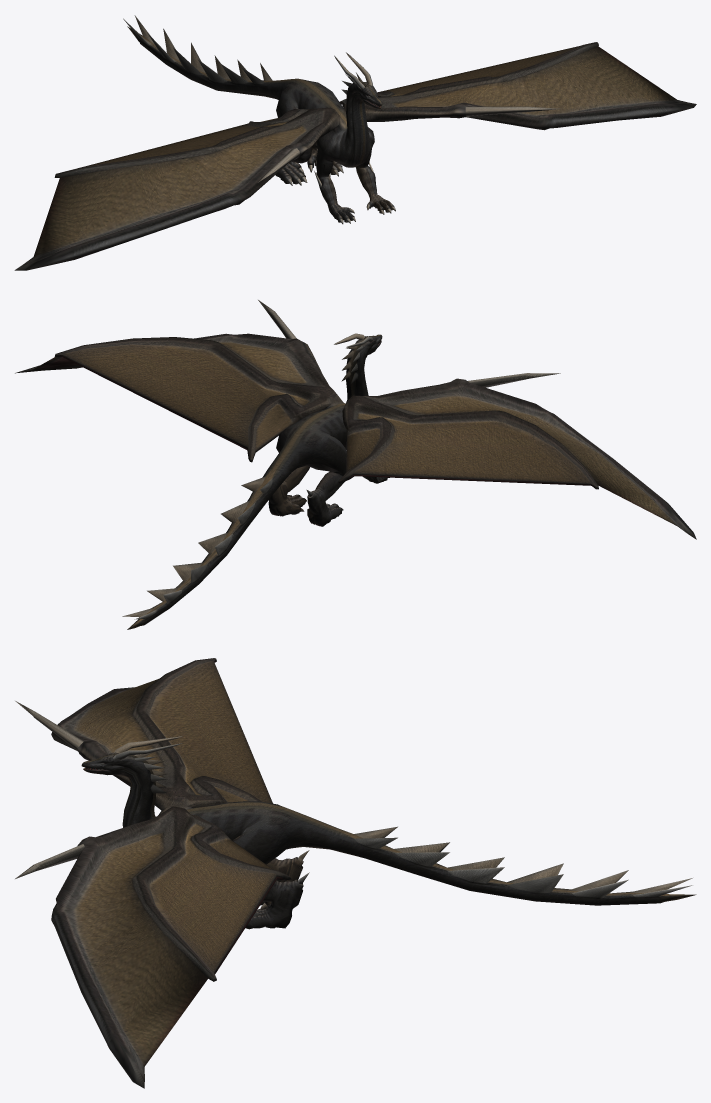
Rendered from Drachen_1.0_obj.obj.
3 views of the same model, one above another, from view 1: azimuth 30°, elevation 25°; view 2: azimuth 150°, elevation 25°; view 3: azimuth 270°, elevation 25° (orthographic). The views are drawn at different scales.
Parts seen in each view (by area): view 1: Cube_Cube.004; view 2: Cube_Cube.004; view 3: Cube_Cube.004.
Boxes of the visible parts, bbox=[...] form: Cube_Cube.004: bbox=[14, 15, 696, 270]; Cube_Cube.004: bbox=[15, 300, 696, 629]; Cube_Cube.004: bbox=[15, 658, 696, 1088].
Bounding box in the file's own units: 153 × 30.93 × 110.
